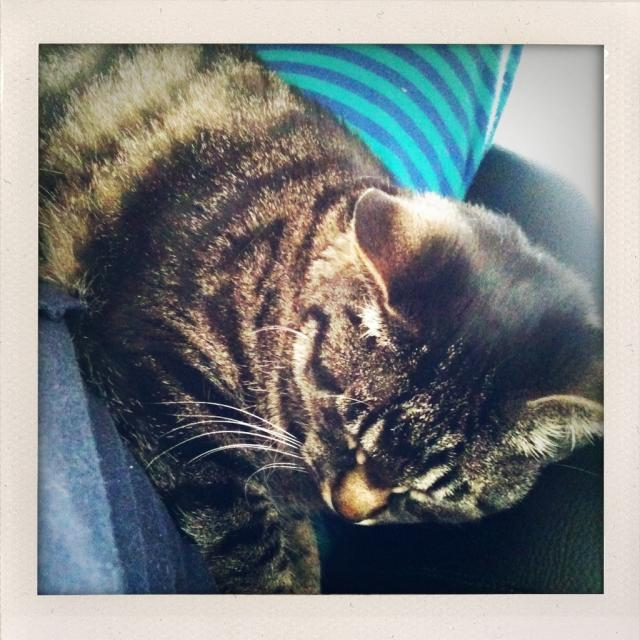Cat: (34, 41, 604, 592)
